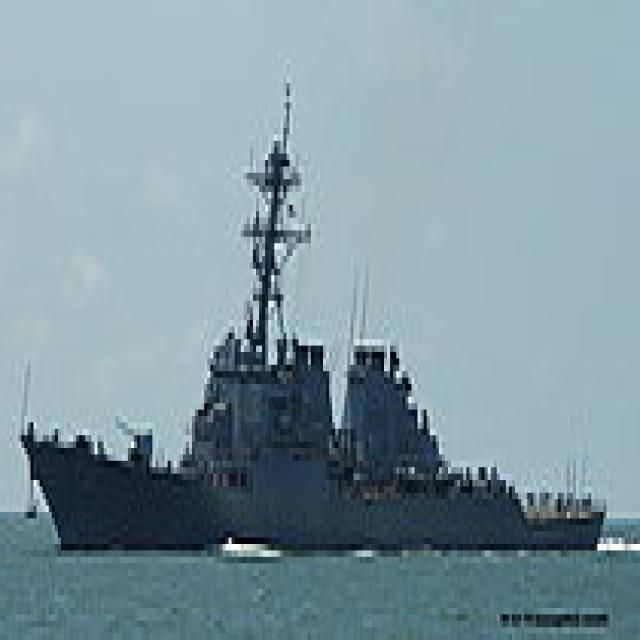Warship: (18, 70, 613, 550)
